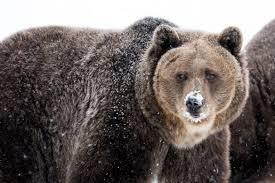bear: (0, 15, 249, 183)
